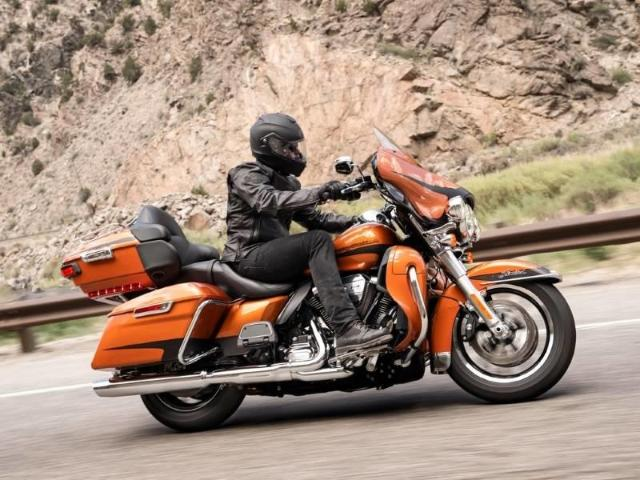helm: (250, 113, 313, 179)
motor: (60, 157, 581, 435)
